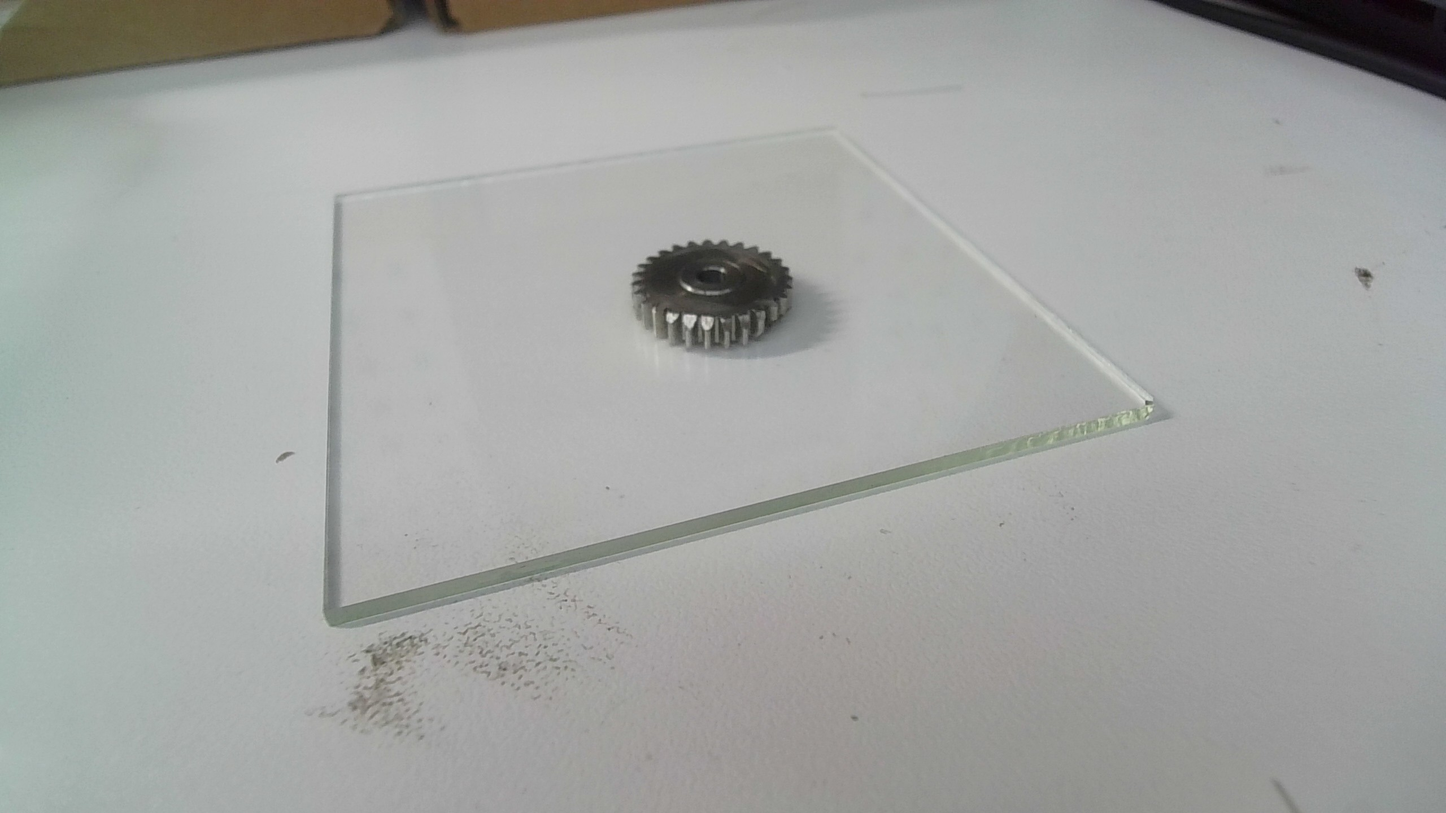gear: (626, 238, 799, 352)
